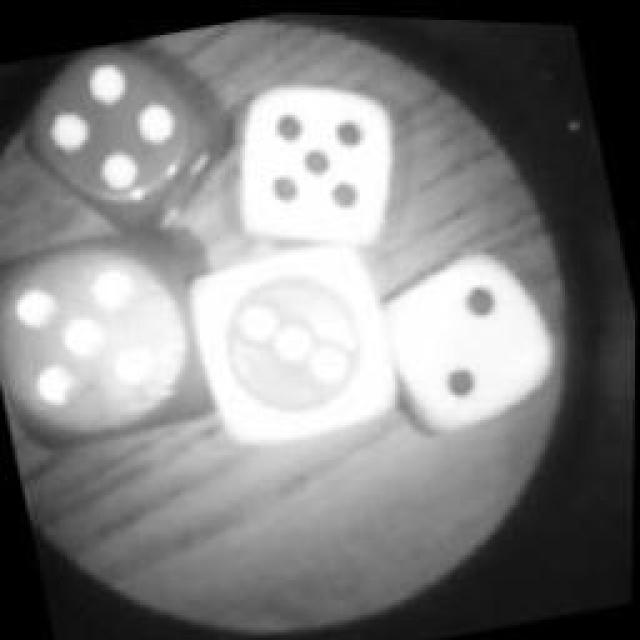dice_2: (362, 228, 580, 454)
dice_3: (176, 214, 422, 464)
dice_4: (0, 20, 250, 268)
dice_5: (0, 206, 232, 471), (211, 55, 424, 267)
